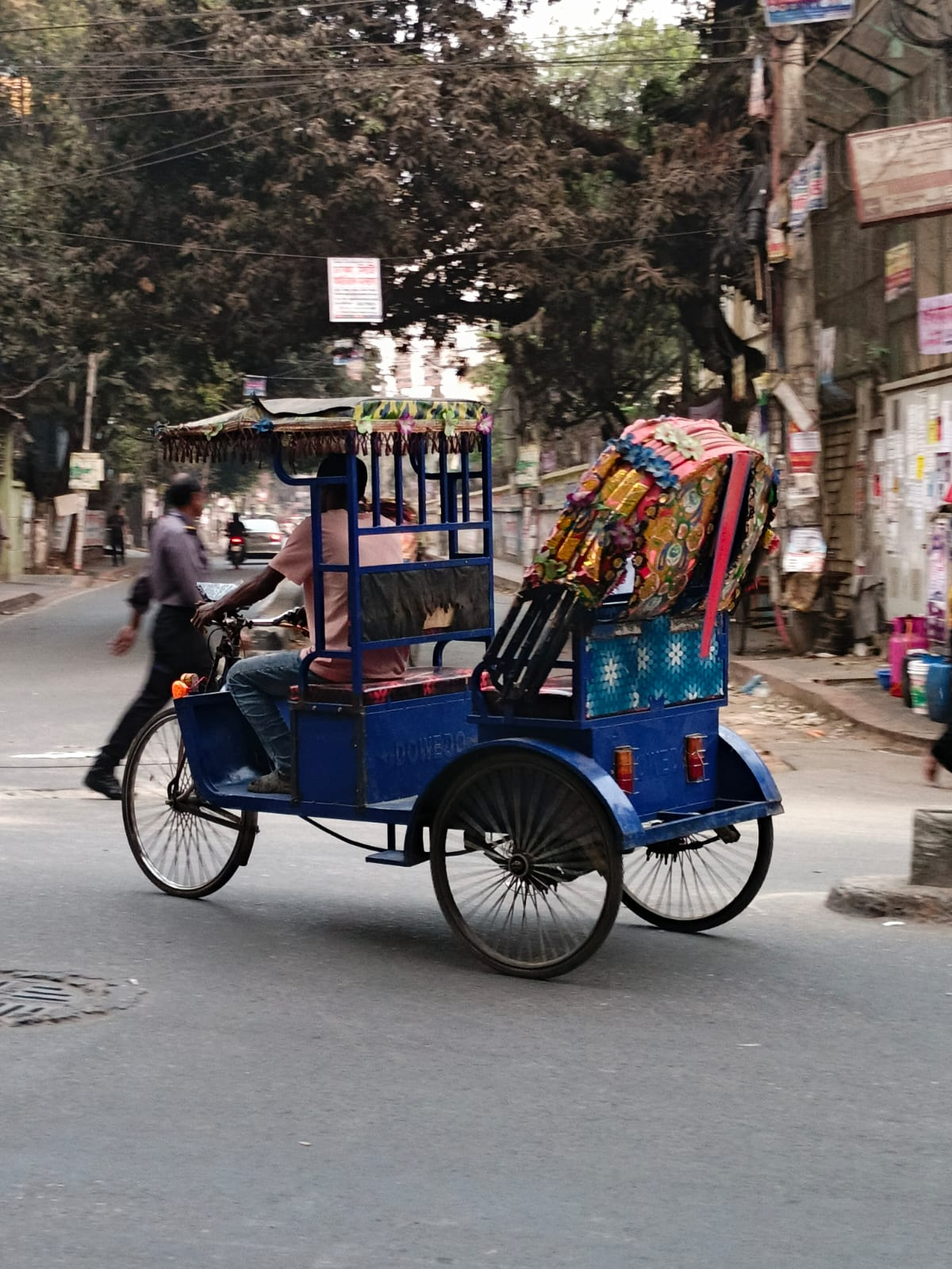auto-ricksaw: (119, 385, 788, 999)
